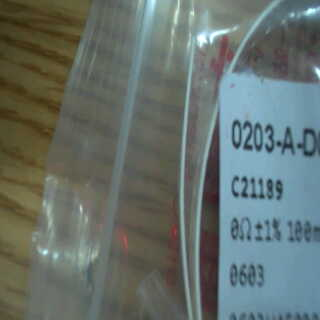0R: (226, 211, 320, 290)
